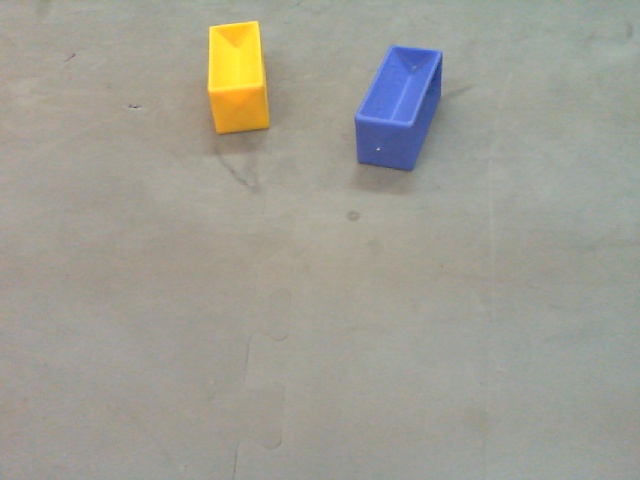BlueSample: (349, 44, 445, 174)
YellowSample: (205, 22, 273, 134)
